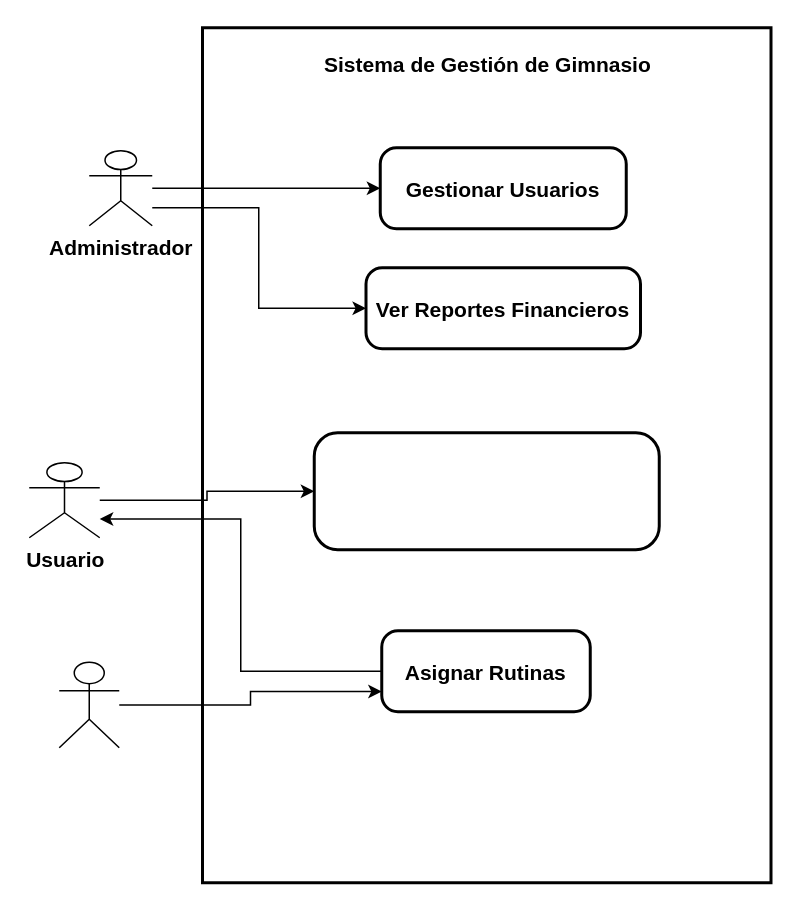
Image size: 798x909. Some labels were removed from this diagram. The box of each missing label's shape, as (x1, y1, x2, y2) in pixels:
Consultar Membresía y Rutinas: (312, 430, 660, 550)
Entrenador: (58, 661, 119, 748)
